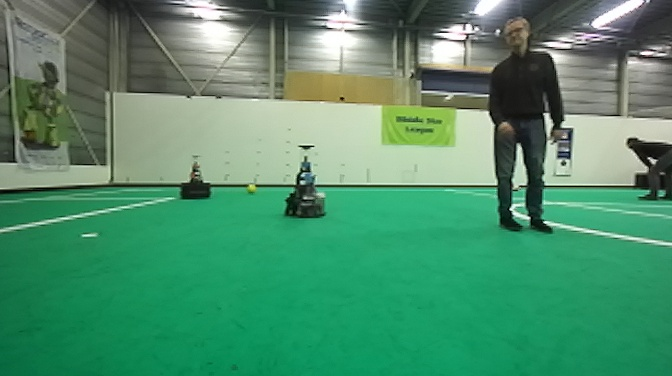ball: (244, 181, 258, 194), (509, 181, 521, 194)
human: (485, 15, 567, 235), (624, 134, 672, 202)
robot: (282, 143, 330, 220), (177, 153, 215, 201)
